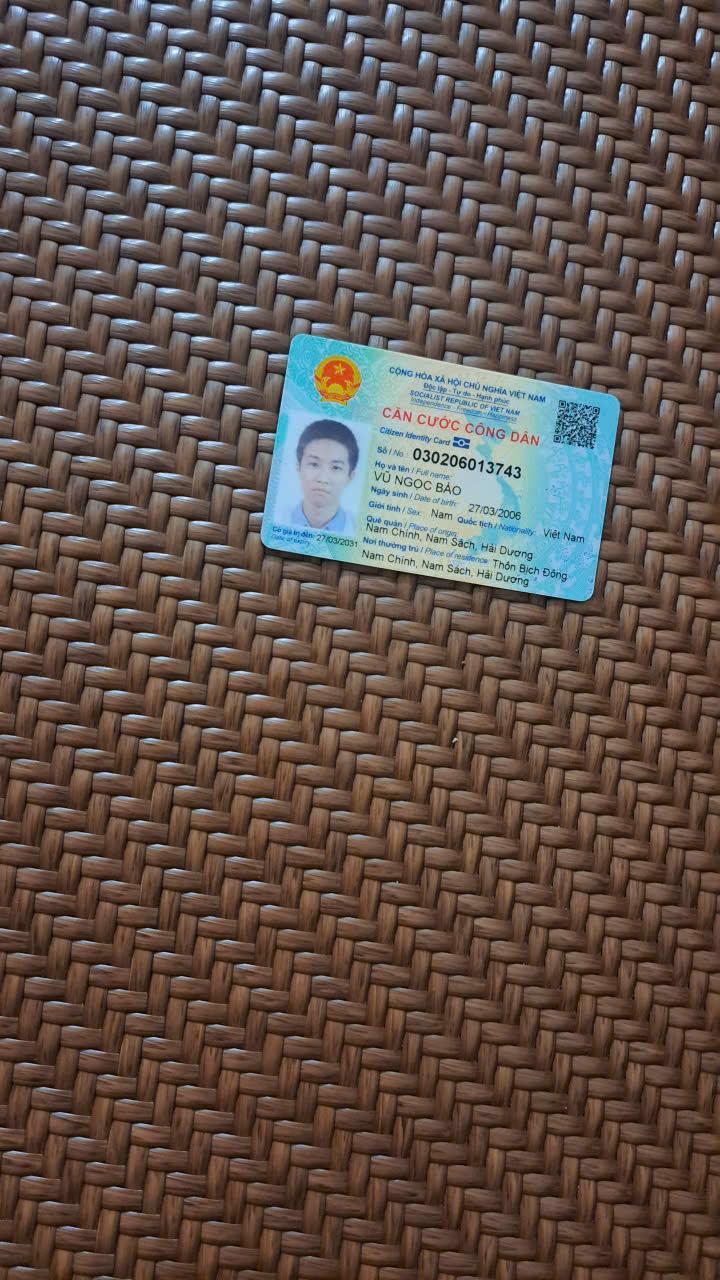cccd: (252, 329, 630, 615)
